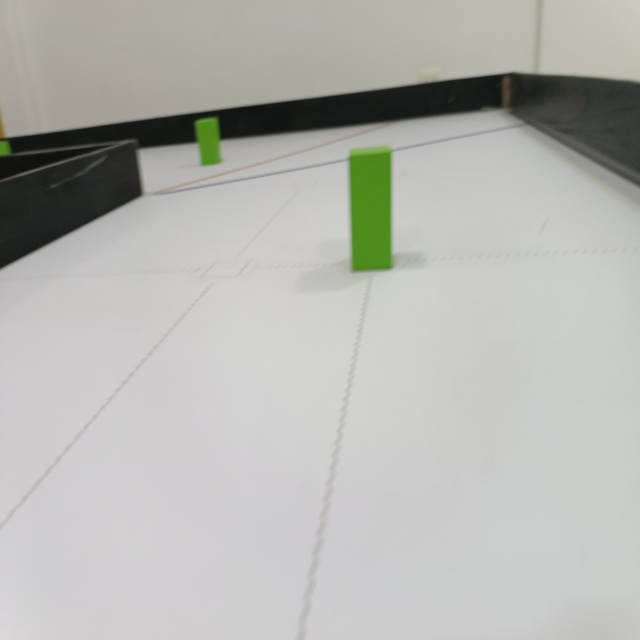blue line: (150, 129, 525, 199)
green rectangular prism: (345, 151, 400, 271), (192, 117, 227, 162)
orange line: (149, 119, 396, 193)
